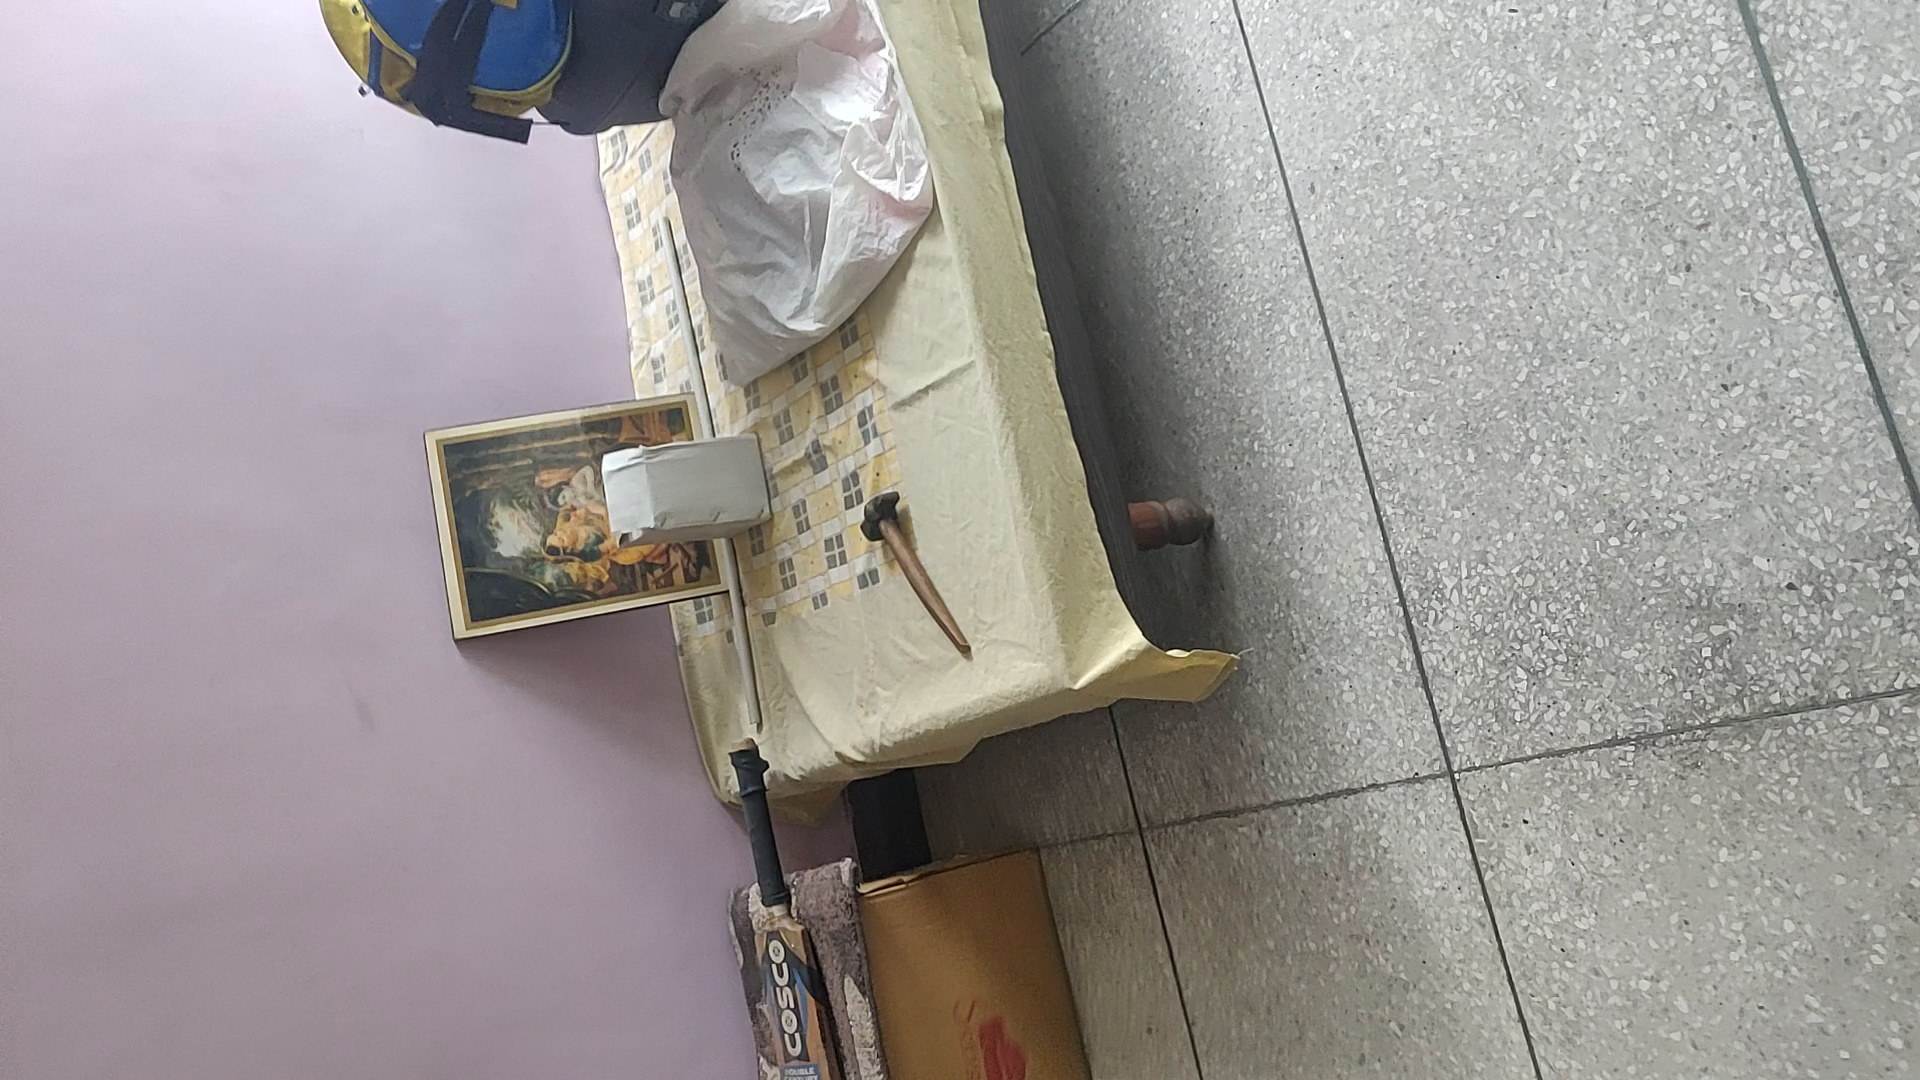hammer: (857, 491, 969, 658)
